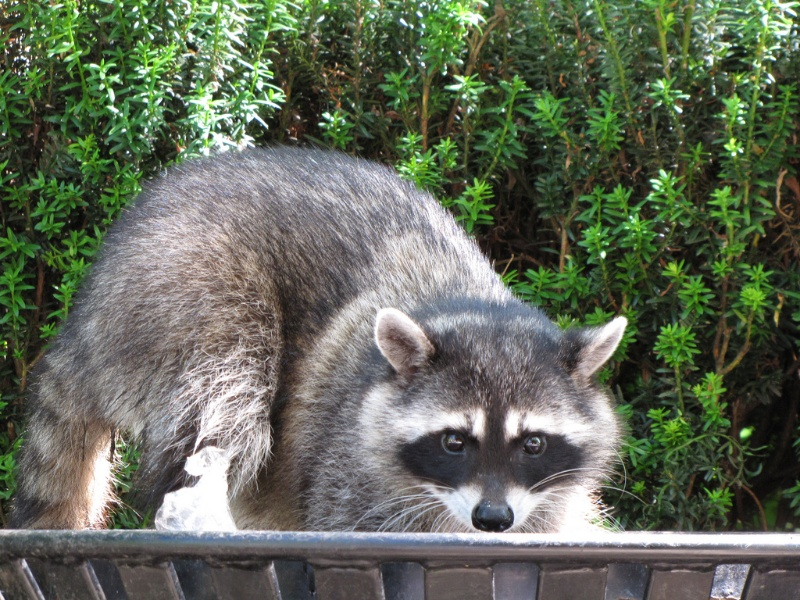raccoon: (21, 147, 631, 540)
